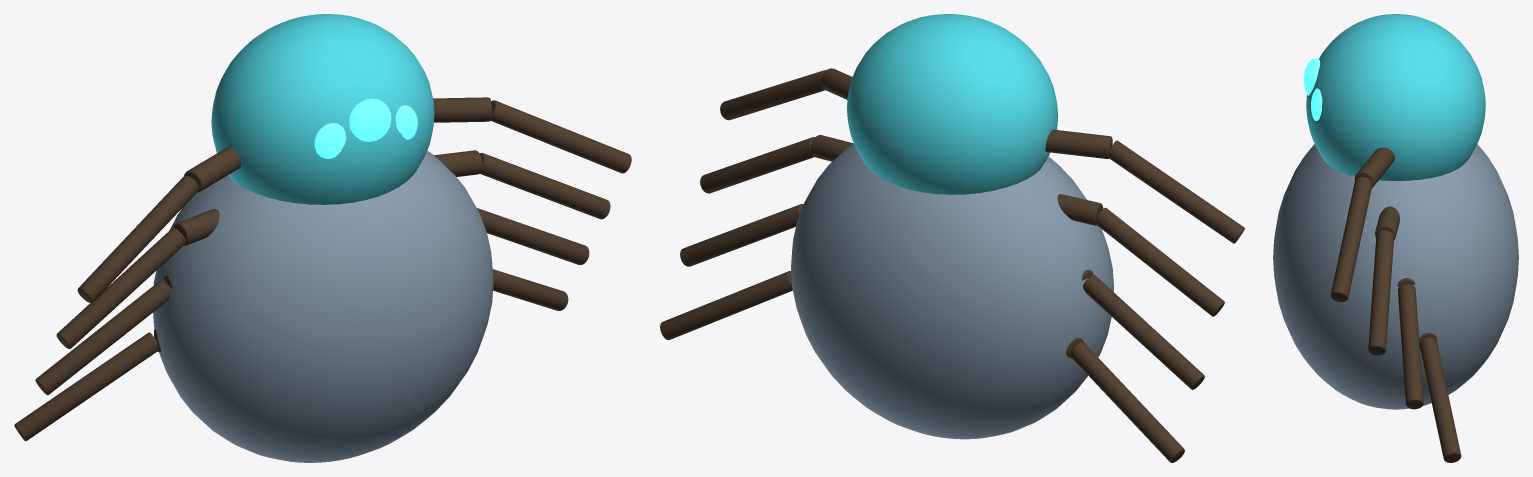
File: arachnid_v4.glb
The picture shows the model from 3 angles, left to right: view 1: azimuth 30°, elevation 25°; view 2: azimuth 150°, elevation 25°; view 3: azimuth 270°, elevation 25°; orthographic projection. The views are drawn at different scales.
Parts seen in each view (by area): view 1: TARANTULA_ABDOMEN_PRIMARY, TARANTULA_HEAD_ACCENT, ARACHNID_LOWER_LEG_SECONDARY.006, ARACHNID_LOWER_LEG_SECONDARY.004, ARACHNID_LOWER_LEG_SECONDARY, ARACHNID_LOWER_LEG_SECONDARY.002, ARACHNID_LOWER_LEG_SECONDARY.001, ARACHNID_LOWER_LEG_SECONDARY.003, ARACHNID_LOWER_LEG_SECONDARY.005, ARACHNID_LOWER_LEG_SECONDARY.007, EYE_EMISSIVE.001, ARACHNID_UPPER_LEG_SECONDARY.001 (+4 smaller); view 2: TARANTULA_ABDOMEN_PRIMARY, TARANTULA_HEAD_ACCENT, ARACHNID_LOWER_LEG_SECONDARY, ARACHNID_LOWER_LEG_SECONDARY.002, ARACHNID_LOWER_LEG_SECONDARY.006, ARACHNID_LOWER_LEG_SECONDARY.004, ARACHNID_LOWER_LEG_SECONDARY.007, ARACHNID_LOWER_LEG_SECONDARY.005, ARACHNID_LOWER_LEG_SECONDARY.003, ARACHNID_LOWER_LEG_SECONDARY.001, ARACHNID_UPPER_LEG_SECONDARY, ARACHNID_UPPER_LEG_SECONDARY.002 (+2 smaller); view 3: TARANTULA_ABDOMEN_PRIMARY, TARANTULA_HEAD_ACCENT, ARACHNID_LOWER_LEG_SECONDARY.007, ARACHNID_LOWER_LEG_SECONDARY.001, ARACHNID_LOWER_LEG_SECONDARY.003, ARACHNID_LOWER_LEG_SECONDARY.005, ARACHNID_UPPER_LEG_SECONDARY.001, ARACHNID_UPPER_LEG_SECONDARY.003, EYE_EMISSIVE.001, EYE_EMISSIVE.002.
Part boxes in pixels (left/top/right/bottom): TARANTULA_ABDOMEN_PRIMARY: left=153, top=150, right=493, bottom=462; TARANTULA_HEAD_ACCENT: left=211, top=14, right=434, bottom=204; ARACHNID_LOWER_LEG_SECONDARY.006: left=14, top=332, right=157, bottom=441; ARACHNID_LOWER_LEG_SECONDARY.004: left=35, top=280, right=171, bottom=395; ARACHNID_LOWER_LEG_SECONDARY: left=77, top=175, right=199, bottom=302; ARACHNID_LOWER_LEG_SECONDARY.002: left=56, top=228, right=185, bottom=348; ARACHNID_LOWER_LEG_SECONDARY.001: left=490, top=100, right=631, bottom=173; ARACHNID_LOWER_LEG_SECONDARY.003: left=479, top=153, right=610, bottom=219; ARACHNID_LOWER_LEG_SECONDARY.005: left=477, top=208, right=589, bottom=264; ARACHNID_LOWER_LEG_SECONDARY.007: left=492, top=269, right=568, bottom=310; EYE_EMISSIVE.001: left=349, top=98, right=391, bottom=141; ARACHNID_UPPER_LEG_SECONDARY.001: left=433, top=97, right=491, bottom=122; TARANTULA_ABDOMEN_PRIMARY: left=791, top=143, right=1113, bottom=439; TARANTULA_HEAD_ACCENT: left=846, top=14, right=1058, bottom=194; ARACHNID_LOWER_LEG_SECONDARY: left=1109, top=140, right=1244, bottom=243; ARACHNID_LOWER_LEG_SECONDARY.002: left=1095, top=207, right=1224, bottom=316; ARACHNID_LOWER_LEG_SECONDARY.006: left=1069, top=342, right=1184, bottom=462; ARACHNID_LOWER_LEG_SECONDARY.004: left=1083, top=275, right=1204, bottom=389; ARACHNID_LOWER_LEG_SECONDARY.007: left=660, top=271, right=792, bottom=339; ARACHNID_LOWER_LEG_SECONDARY.005: left=680, top=204, right=803, bottom=266; ARACHNID_LOWER_LEG_SECONDARY.003: left=700, top=137, right=815, bottom=193; ARACHNID_LOWER_LEG_SECONDARY.001: left=720, top=70, right=826, bottom=120; ARACHNID_UPPER_LEG_SECONDARY: left=1045, top=129, right=1112, bottom=158; ARACHNID_UPPER_LEG_SECONDARY.002: left=1057, top=194, right=1103, bottom=225; TARANTULA_ABDOMEN_PRIMARY: left=1273, top=144, right=1518, bottom=409; TARANTULA_HEAD_ACCENT: left=1306, top=14, right=1485, bottom=180; ARACHNID_LOWER_LEG_SECONDARY.007: left=1419, top=337, right=1461, bottom=462; ARACHNID_LOWER_LEG_SECONDARY.001: left=1330, top=177, right=1372, bottom=302; ARACHNID_LOWER_LEG_SECONDARY.003: left=1368, top=230, right=1394, bottom=355; ARACHNID_LOWER_LEG_SECONDARY.005: left=1397, top=284, right=1423, bottom=409; ARACHNID_UPPER_LEG_SECONDARY.001: left=1354, top=147, right=1394, bottom=187; ARACHNID_UPPER_LEG_SECONDARY.003: left=1375, top=206, right=1399, bottom=239; EYE_EMISSIVE.001: left=1303, top=58, right=1320, bottom=95; EYE_EMISSIVE.002: left=1311, top=88, right=1322, bottom=120.
Size of the model in its own units: 2.33 by 1.73 by 1.04.
